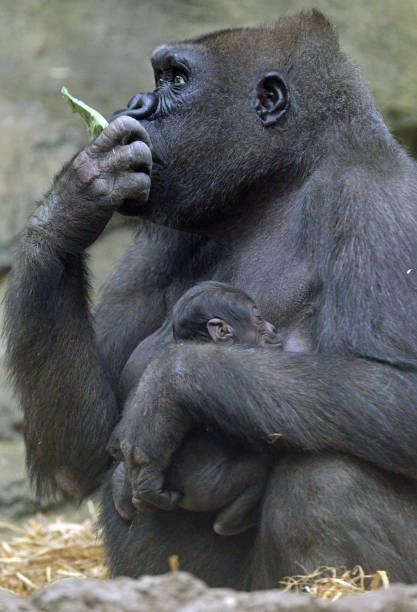gorille_Autres: (8, 2, 417, 609)
